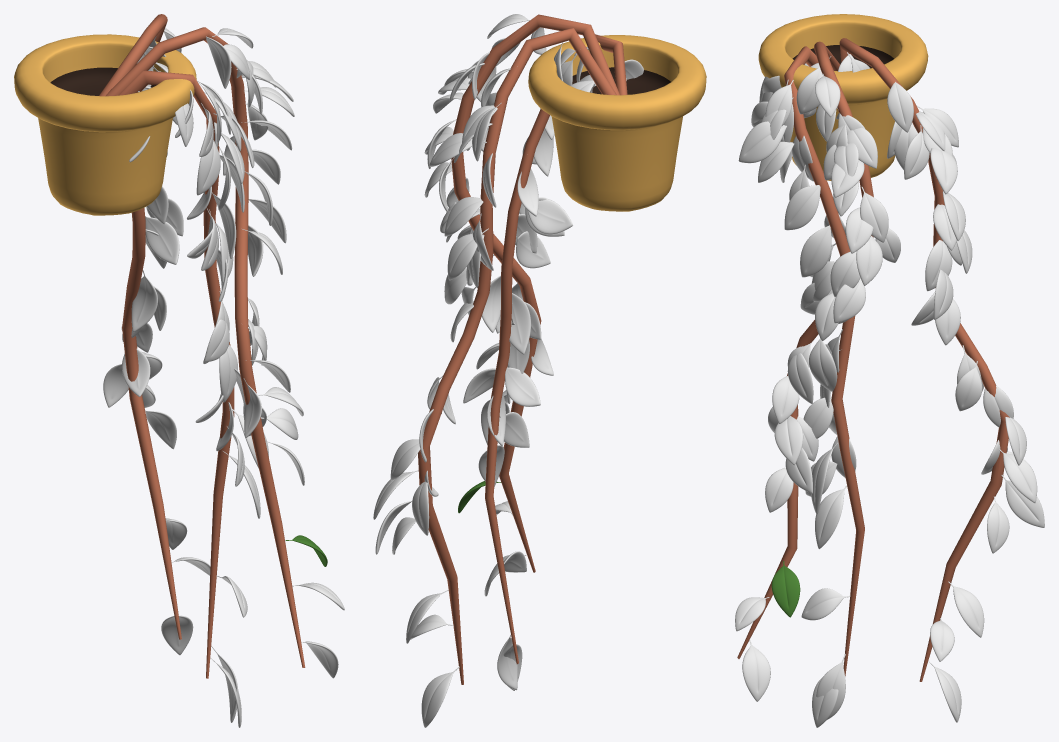
Rendered from LongPlant.fbx.
3 views of the same model, side by side, from view 1: azimuth 30°, elevation 25°; view 2: azimuth 150°, elevation 25°; view 3: azimuth 270°, elevation 25° (orthographic). The views are drawn at different scales.
Visible parts, largest first — view 1: Vase.001, Plants, Plants.002, Plants.001, Plants.002|Plane.015|Dupli|14, Plants.002|Plane.015|Dupli|10, Plants.002|Plane.015|Dupli|2, Plants.001|Plane.015|Dupli|21, Plants.001|Plane.015|Dupli|9, Plants.002|Plane.015|Dupli|7, Plants.002|Plane.015|Dupli|3, Plants.001|Plane.015|Dupli|11 (+9 smaller); view 2: Vase.001, Plants.002, Plants.001, Plants, Plants.001|Plane.015|Dupli|14, Plants.001|Plane.015|Dupli|6, Plants.002|Plane.015|Dupli|2, Plants.001|Plane.015|Dupli|10, Plants.002|Plane.015|Dupli|16, Plants.001|Plane.015|Dupli|13, Plants.002|Plane.015|Dupli|20, Plants.001|Plane.015|Dupli|3 (+9 smaller); view 3: Vase.001, Plants.001, Plants.002, Plants, Plants.001|Plane.015|Dupli|23, Plants.001|Plane.015|Dupli|16, Plants.001|Plane.015|Dupli|20, Plants|Plane.015|Dupli|2, Plants.001|Plane.015|Dupli|4, Plants|Plane.015|Dupli|, Plants.002|Plane.015|Dupli|5, Plants.002|Plane.015|Dupli|4 (+46 smaller).
Part boxes in pixels (box(x1,y1,x2,y2)): Vase.001: box(14, 34, 196, 215); Plants: box(105, 27, 305, 667); Plants.002: box(99, 14, 181, 639); Plants.001: box(118, 70, 234, 678); Plants.002|Plane.015|Dupli|14: box(145, 216, 179, 264); Plants.002|Plane.015|Dupli|10: box(131, 270, 157, 332); Plants.002|Plane.015|Dupli|2: box(161, 615, 193, 655); Plants.001|Plane.015|Dupli|21: box(196, 140, 220, 195); Plants.001|Plane.015|Dupli|9: box(219, 344, 237, 402); Plants.002|Plane.015|Dupli|7: box(103, 364, 128, 407); Plants.002|Plane.015|Dupli|3: box(145, 410, 176, 449); Plants.001|Plane.015|Dupli|11: box(204, 319, 229, 362); Vase.001: box(528, 35, 706, 211); Plants.002: box(418, 27, 616, 684); Plants.001: box(485, 34, 627, 663); Plants: box(451, 14, 619, 572); Plants.001|Plane.015|Dupli|14: box(527, 199, 572, 234); Plants.001|Plane.015|Dupli|6: box(505, 367, 540, 406); Plants.002|Plane.015|Dupli|2: box(421, 666, 459, 727); Plants.001|Plane.015|Dupli|10: box(509, 293, 530, 354); Plants.002|Plane.015|Dupli|16: box(447, 228, 488, 280); Plants.001|Plane.015|Dupli|13: box(516, 231, 550, 268); Plants.002|Plane.015|Dupli|20: box(444, 197, 483, 236); Plants.001|Plane.015|Dupli|3: box(499, 412, 529, 447); Vase.001: box(758, 14, 928, 180); Plants.001: box(784, 46, 864, 676); Plants.002: box(839, 38, 1009, 681); Plants: box(737, 41, 873, 658); Plants.001|Plane.015|Dupli|23: box(738, 121, 786, 163); Plants.001|Plane.015|Dupli|16: box(800, 225, 831, 277); Plants.001|Plane.015|Dupli|20: box(784, 185, 820, 230); Plants|Plane.015|Dupli|2: box(742, 639, 770, 701); Plants.001|Plane.015|Dupli|4: box(815, 485, 847, 549); Plants|Plane.015|Dupli|: box(771, 561, 800, 617); Plants.002|Plane.015|Dupli|5: box(1001, 475, 1044, 527); Plants.002|Plane.015|Dupli|4: box(999, 449, 1037, 503).
Size of the model in its own units: 254 by 634 by 272.
